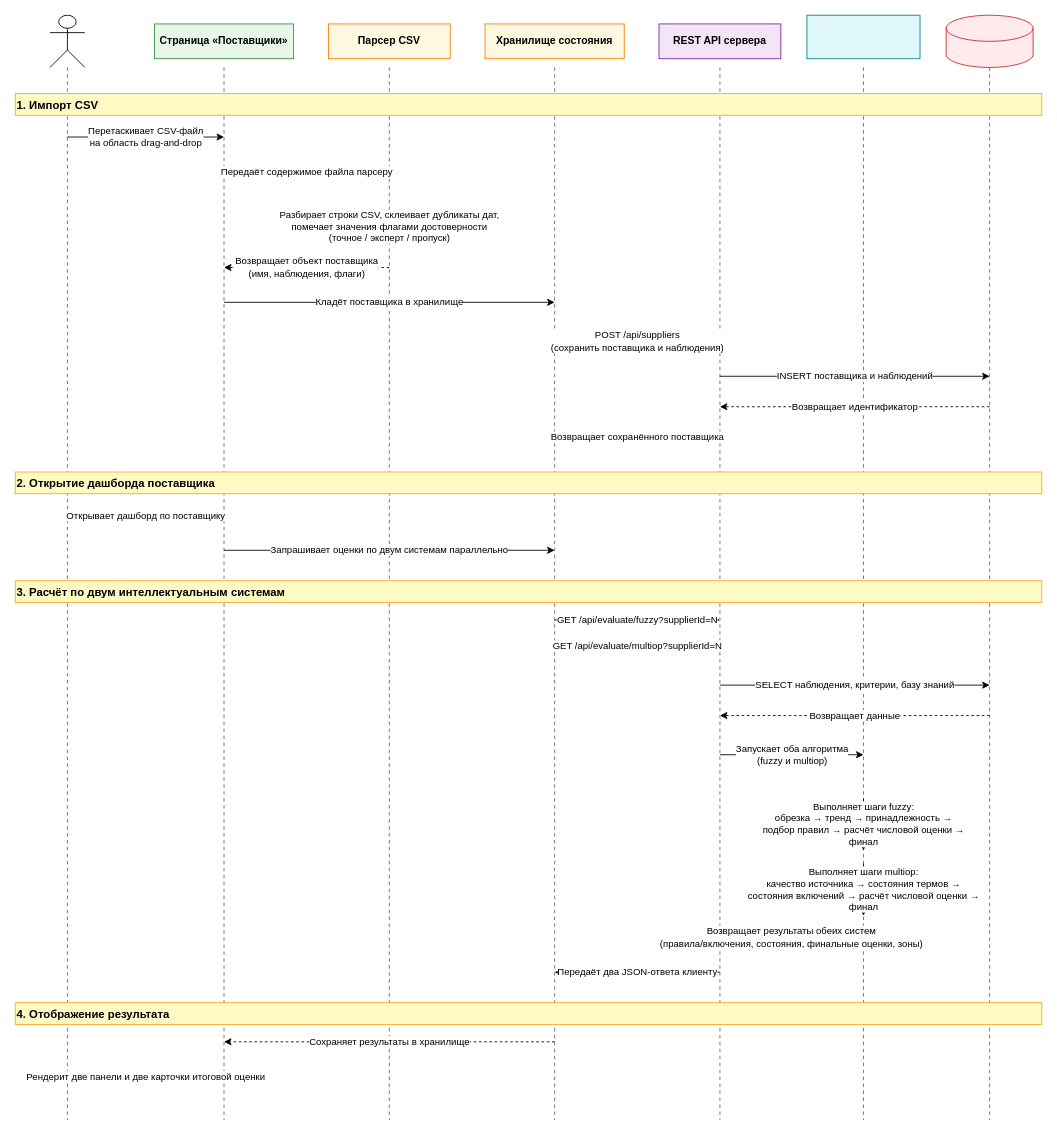
Some shapes in this 1057 by 1136 pixel diagram are drawn without their labels. The centre of each missing label's shape, as x and y in pixels:
"База данных" belongs at point (989, 40).
"Вычислительные модули" belongs at point (863, 36).
"Пользователь" belongs at point (67, 40).
